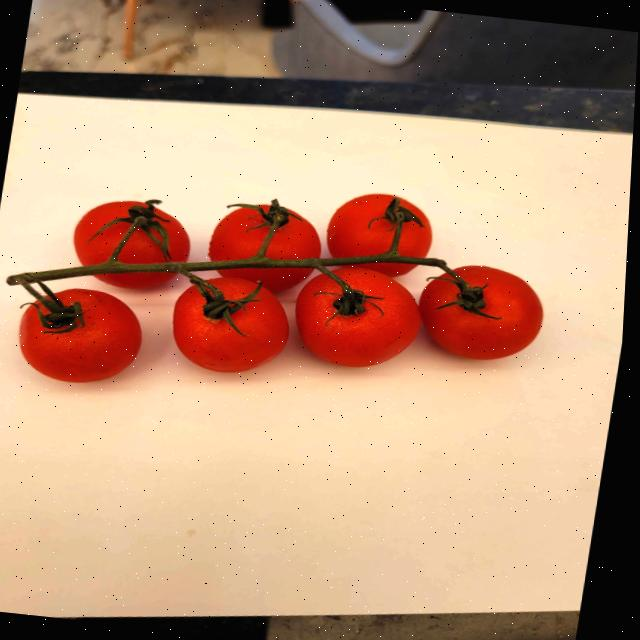ripe2: (295, 265, 421, 366), (418, 265, 542, 359), (19, 289, 141, 382), (173, 276, 288, 372), (73, 200, 189, 265), (327, 194, 431, 257), (208, 204, 273, 261), (264, 208, 320, 259), (221, 267, 312, 292), (99, 273, 173, 289), (357, 263, 416, 277)
